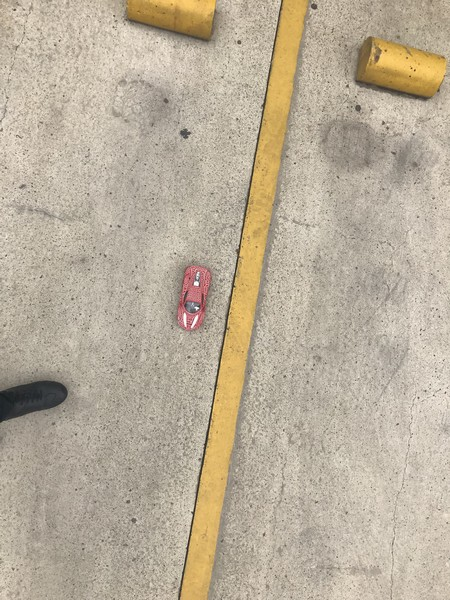RC: (176, 265, 211, 331)
